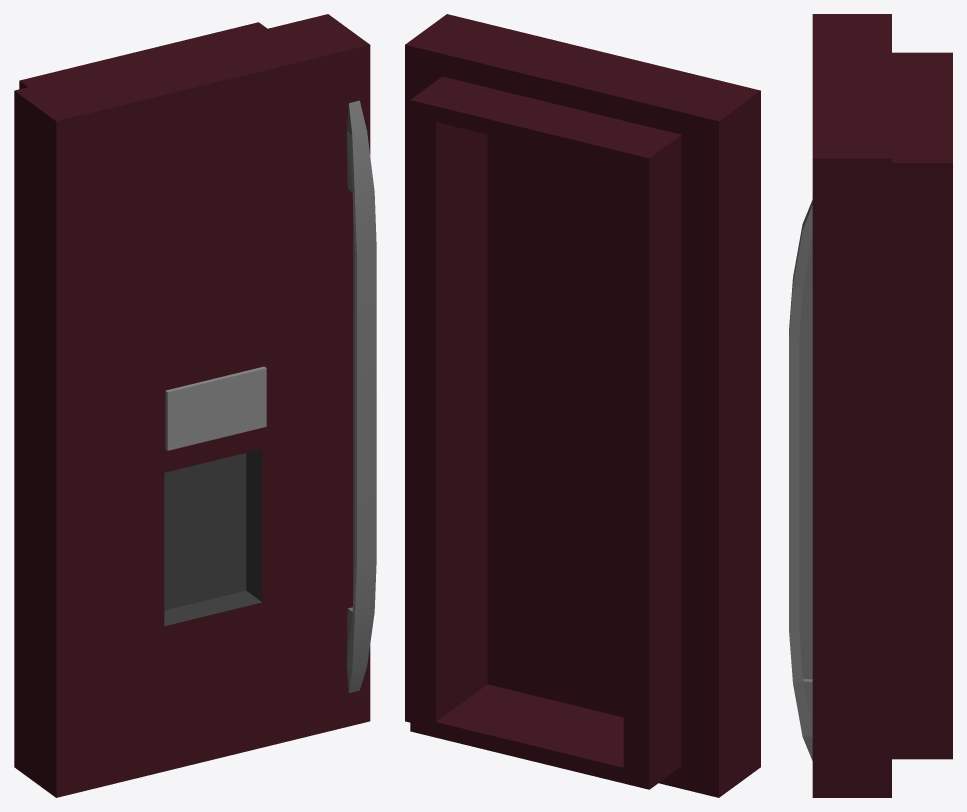
File: Itr_Obj_Fridge1_Top_Door_Left_04.FBX
3 views of the same model, side by side, from view 1: azimuth 30°, elevation 25°; view 2: azimuth 150°, elevation 25°; view 3: azimuth 270°, elevation 25° (orthographic). The views are drawn at different scales.
Visible parts, largest first — view 1: Itr_Obj_Fridge1_Top_Door_Left_04; view 2: Itr_Obj_Fridge1_Top_Door_Left_04; view 3: Itr_Obj_Fridge1_Top_Door_Left_04.
Part boxes in pixels (<box>): Itr_Obj_Fridge1_Top_Door_Left_04: <box>14,14,376,797</box>; Itr_Obj_Fridge1_Top_Door_Left_04: <box>405,14,760,797</box>; Itr_Obj_Fridge1_Top_Door_Left_04: <box>789,14,952,797</box>.
Size of the model in its own units: 22.45 by 46.23 by 10.74.
